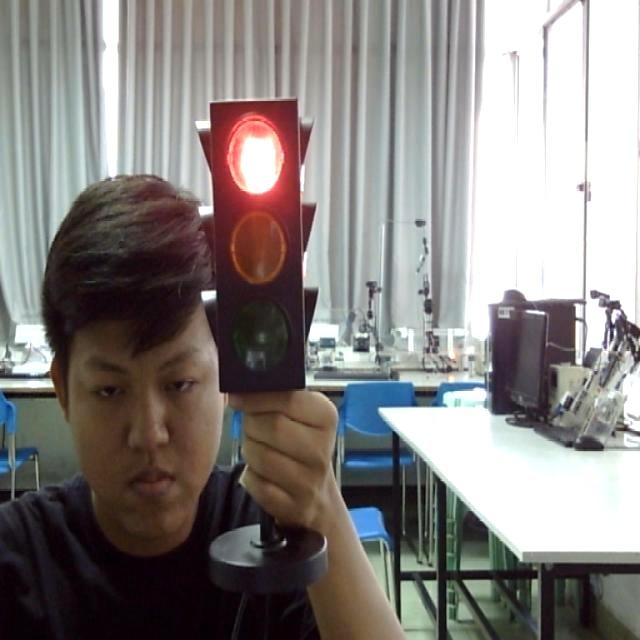Red: (203, 89, 324, 398)
